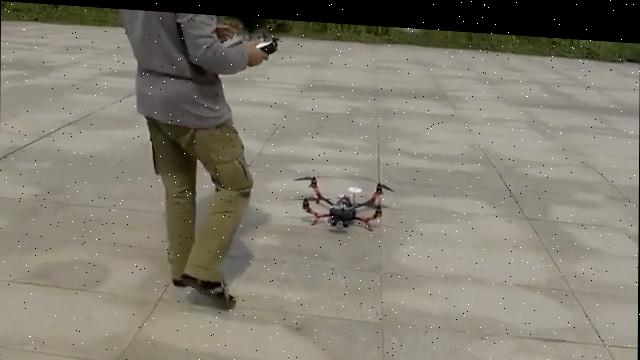drone: (289, 163, 393, 229)
